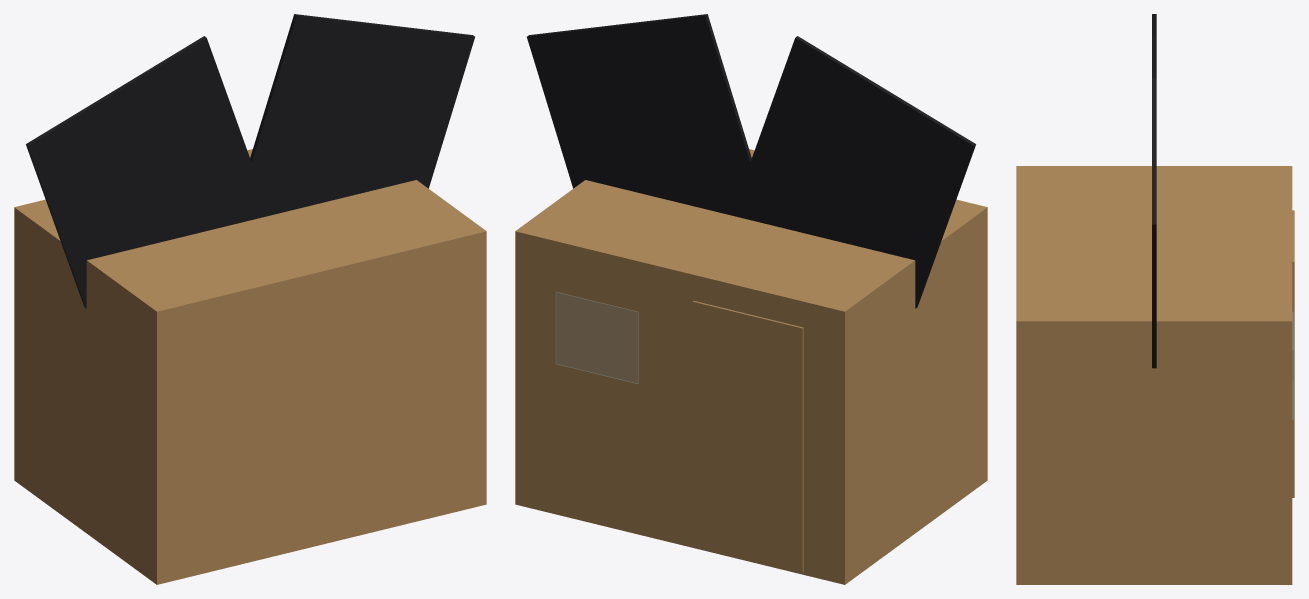
The model's file is furniture.home.garden_shed.glb.
3 renders of one model, left to right at view 1: azimuth 30°, elevation 25°; view 2: azimuth 150°, elevation 25°; view 3: azimuth 270°, elevation 25°, orthographic. The views are drawn at different scales.
Parts seen in each view (by area): view 1: main__softwood, main__roof_felt; view 2: main__softwood, main__roof_felt, main__glass; view 3: main__softwood, main__roof_felt.
Boxes of the visible parts, box(x1,y1,x2,y2) form: main__softwood: box(14, 149, 486, 584); main__roof_felt: box(26, 14, 474, 308); main__softwood: box(515, 149, 987, 584); main__roof_felt: box(527, 14, 975, 308); main__glass: box(556, 292, 638, 383); main__softwood: box(1016, 166, 1294, 584); main__roof_felt: box(1152, 14, 1156, 368).
Size of the model in its own units: 3.25 by 3.24 by 1.81.
